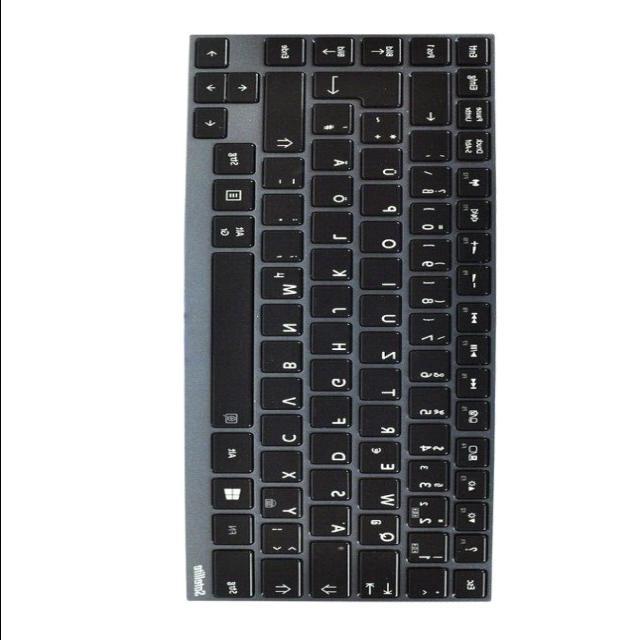0: (411, 205, 455, 238)
1: (408, 534, 450, 567)
2: (409, 498, 451, 531)
3: (409, 462, 453, 495)
4: (410, 426, 452, 459)
5: (410, 389, 452, 422)
6: (410, 352, 454, 385)
7: (411, 314, 455, 348)
8: (410, 278, 454, 312)
9: (411, 241, 455, 275)
a: (313, 508, 355, 540)
accent: (412, 133, 454, 165)
ae: (313, 141, 357, 173)
alt-left: (214, 434, 258, 478)
altgr-right: (215, 217, 259, 251)
b: (264, 343, 308, 377)
c: (263, 417, 307, 450)
caret: (409, 570, 451, 601)
comma: (264, 233, 308, 265)
d: (312, 436, 356, 468)
del: (413, 74, 455, 128)
e: (362, 444, 404, 477)
enter: (314, 74, 408, 111)
f: (312, 398, 356, 431)
g: (313, 363, 357, 395)
h: (313, 324, 355, 358)
hash: (314, 106, 356, 137)
i: (363, 260, 405, 293)
j: (313, 287, 357, 321)
k: (313, 251, 357, 284)
keyboard: (182, 32, 502, 610)
l: (313, 214, 357, 247)
less: (264, 525, 306, 557)
m: (262, 269, 308, 303)
minus: (266, 160, 308, 193)
n: (264, 306, 308, 340)
o: (362, 224, 406, 257)
oe: (314, 178, 358, 210)
p: (362, 186, 406, 220)
plus: (364, 114, 406, 146)
point: (264, 196, 308, 229)
q: (360, 516, 404, 549)
r: (361, 407, 403, 441)
s: (312, 471, 354, 504)
shift-left: (263, 561, 305, 601)
shift-lock: (313, 544, 353, 602)
shift-right: (266, 74, 310, 156)
space: (214, 254, 258, 432)
ss: (411, 168, 453, 201)
strg-left: (215, 553, 257, 603)
strg-right: (216, 145, 260, 178)
t: (362, 371, 404, 404)
tab: (361, 553, 403, 601)
u: (361, 297, 405, 330)
ue: (362, 150, 406, 184)
v: (262, 380, 308, 414)
w: (361, 481, 405, 514)
x: (264, 453, 306, 486)
y: (264, 489, 306, 522)
z: (361, 333, 405, 367)
